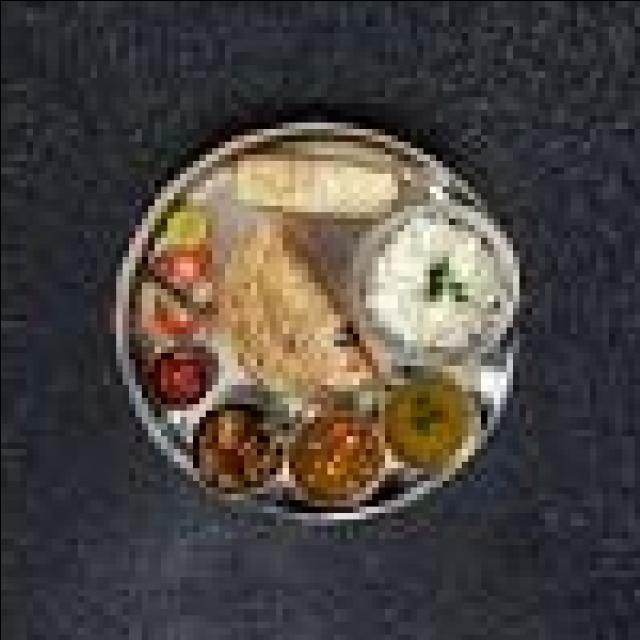dal: (379, 379, 484, 471)
pickle: (134, 338, 232, 418)
rice: (347, 192, 517, 364)
sweet: (132, 330, 228, 418)
veg-fry: (278, 402, 398, 517)
